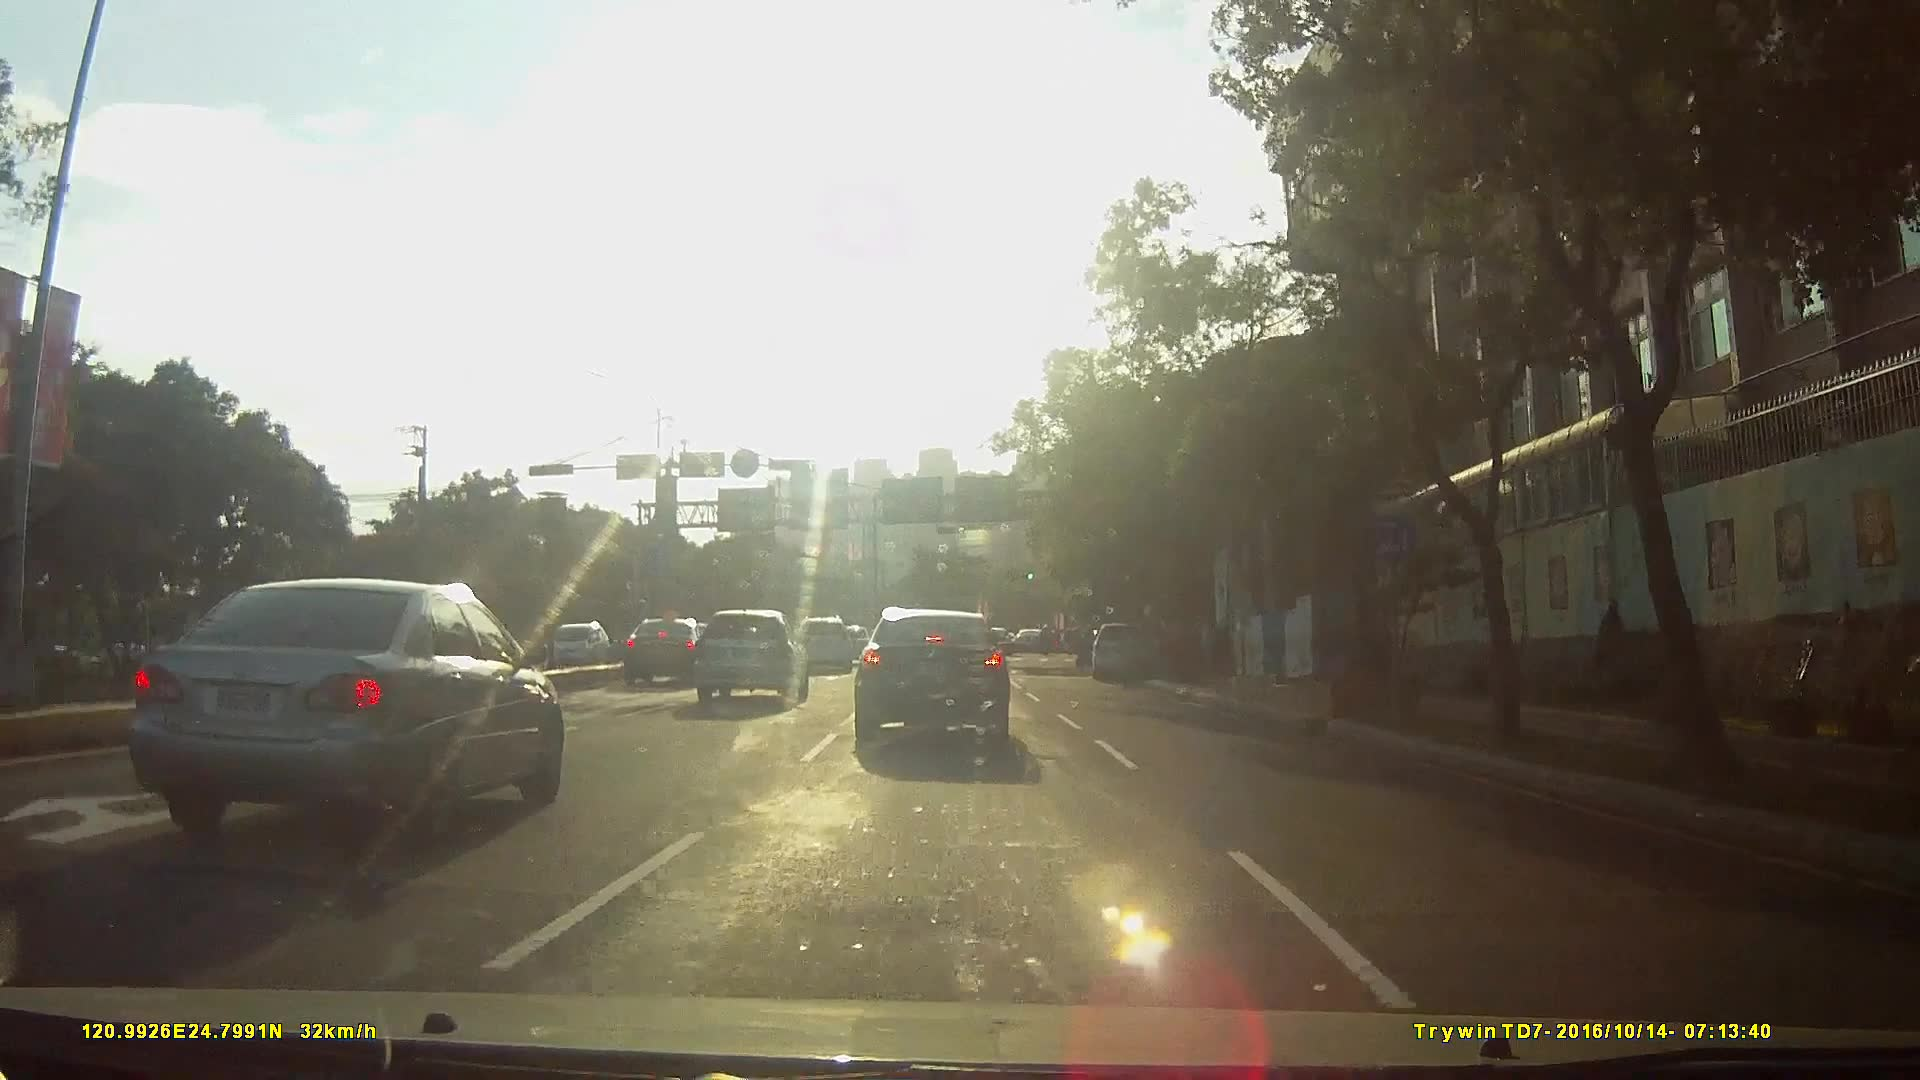vehicle: (109, 564, 571, 858), (848, 607, 1027, 765), (686, 608, 808, 705), (605, 615, 699, 687), (531, 618, 616, 675), (1093, 621, 1163, 683), (787, 612, 851, 674), (1011, 624, 1054, 651)
